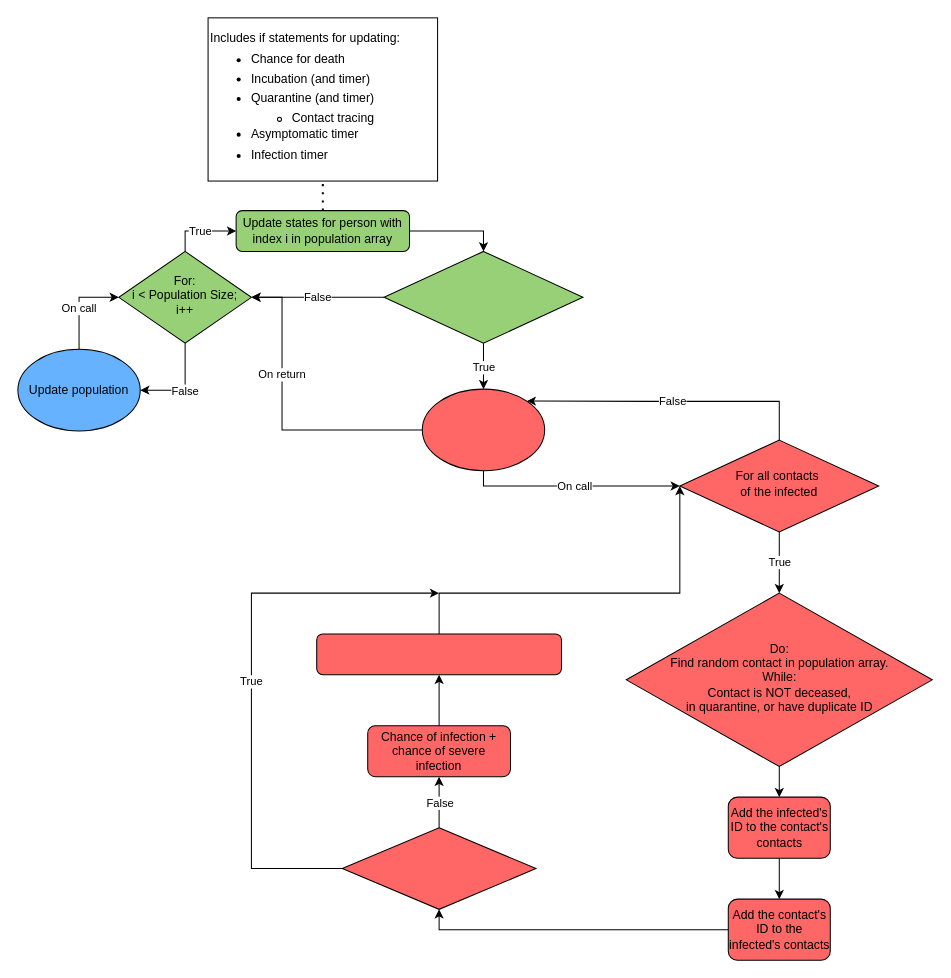
This 951x978 diagram has some shape labels left out. Here are the shapes that lost their labels. From the top down, the centre of each, then its label:
At (x=483, y=296): "if: Is Person infected?".
At (x=483, y=429): "Update contacts".
At (x=439, y=654): "Update medical state of contact. According to severe or normal infection".
At (x=438, y=868): "If: Person state is recovered".
